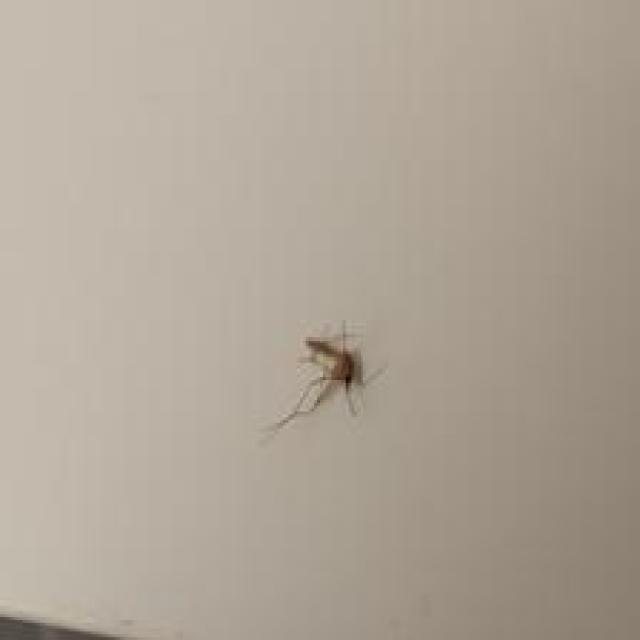Culex: (266, 317, 388, 437)
